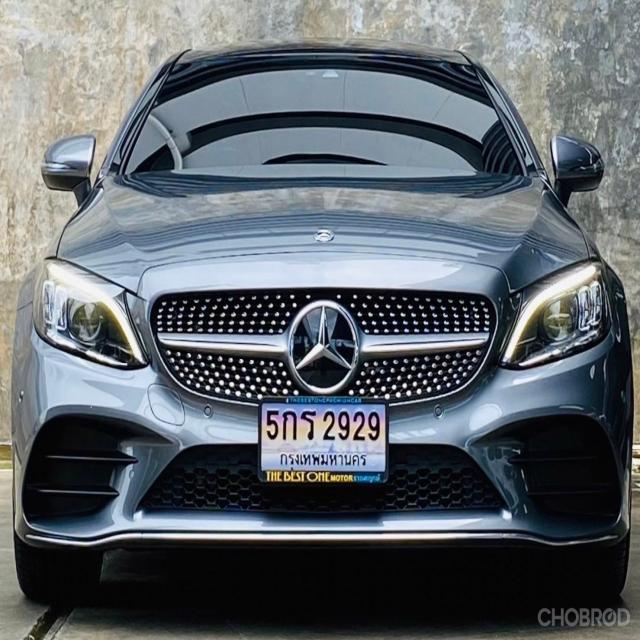license_plate: (255, 396, 390, 486)
